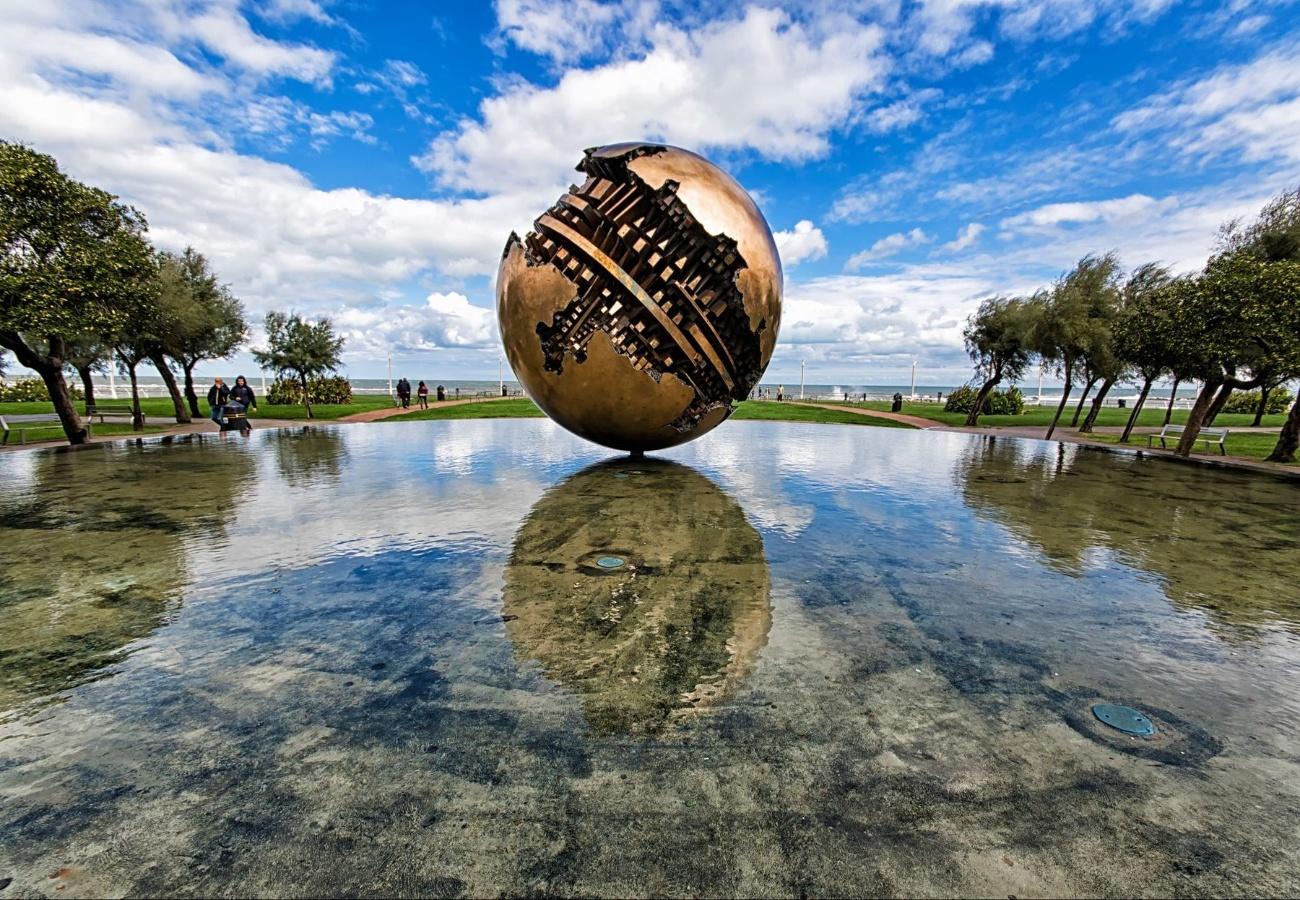Palla di Pomodoro: (497, 143, 787, 454)
